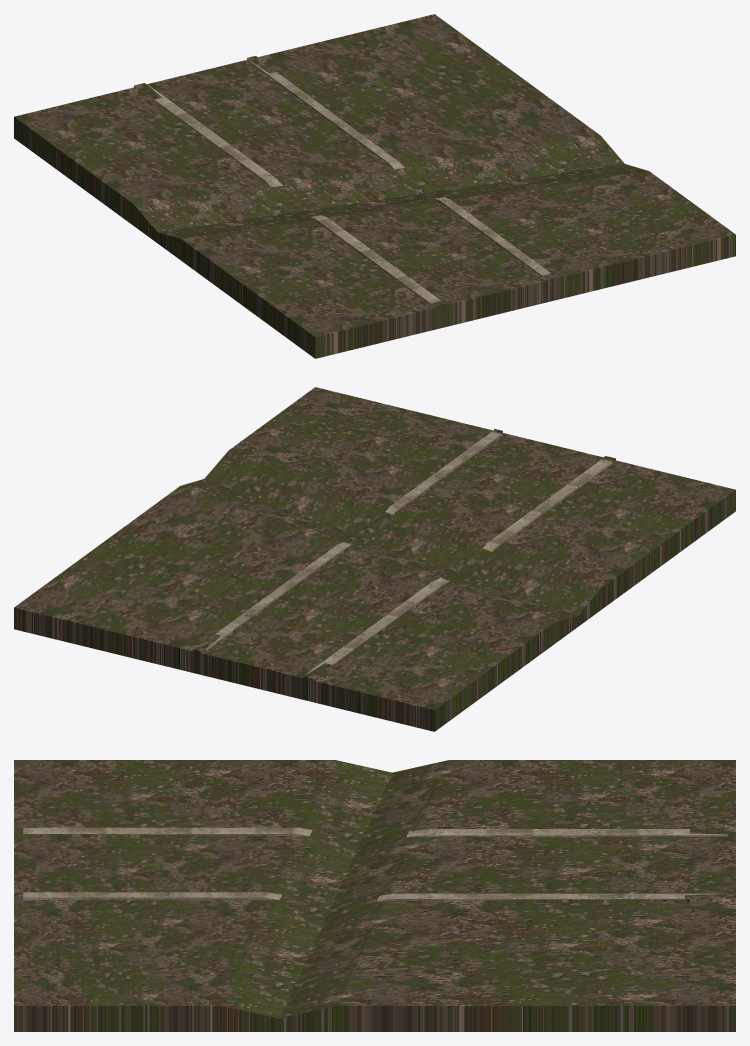
The model's file is TERRENO 1.fbx.
The picture shows the model from 3 angles, top to bottom: view 1: azimuth 30°, elevation 25°; view 2: azimuth 150°, elevation 25°; view 3: azimuth 270°, elevation 25°; orthographic projection. The views are drawn at different scales.
Parts seen in each view (by area): view 1: Plano, Plano.004, Plano.002, Plano.003, Plano.001; view 2: Plano, Plano.004, Plano.002, Plano.003, Plano.001; view 3: Plano, Plano.004, Plano.003, Plano.002, Plano.001.
Boxes of the visible parts, box(x1,y1,x2,y2) form: Plano: box(14, 14, 735, 358); Plano.004: box(310, 215, 440, 304); Plano.002: box(249, 60, 404, 169); Plano.003: box(148, 85, 282, 187); Plano.001: box(435, 197, 551, 276); Plano: box(14, 387, 735, 731); Plano.004: box(482, 459, 612, 551); Plano.002: box(205, 542, 350, 650); Plano.003: box(306, 577, 449, 674); Plano.001: box(385, 431, 500, 514); Plano: box(14, 760, 735, 1031); Plano.004: box(23, 827, 312, 836); Plano.003: box(406, 829, 727, 837); Plano.002: box(377, 893, 727, 901); Plano.001: box(23, 892, 281, 899).
Size of the model in its own units: 113 by 6.14 by 140.
